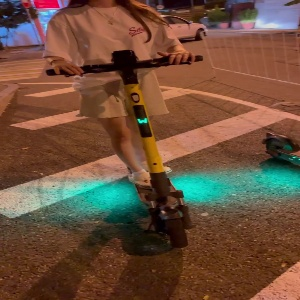human on a scooter: (42, 1, 206, 249)
